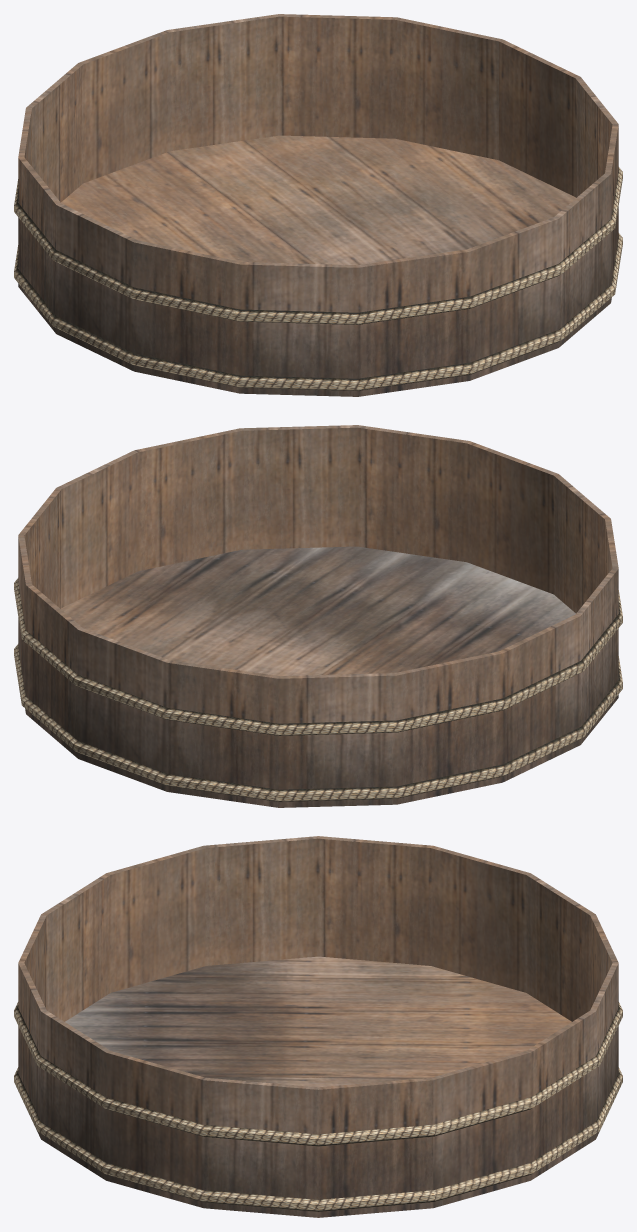
File: jov_vat01.fbx
3 views of the same model, one above another, from view 1: azimuth 30°, elevation 25°; view 2: azimuth 150°, elevation 25°; view 3: azimuth 270°, elevation 25° (orthographic).
Visible parts, largest first — view 1: jov_vat01; view 2: jov_vat01; view 3: jov_vat01.
Boxes of the visible parts, x1=… form: jov_vat01: x1=14, y1=14, x2=622, y2=396; jov_vat01: x1=14, y1=425, x2=622, y2=807; jov_vat01: x1=14, y1=836, x2=622, y2=1217.
Size of the model in its own units: 134 by 31.15 by 134.
